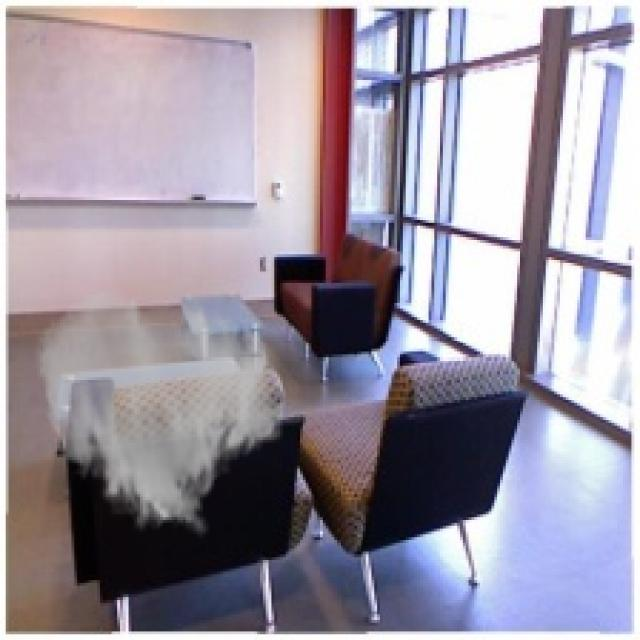smoke: (34, 283, 289, 540)
